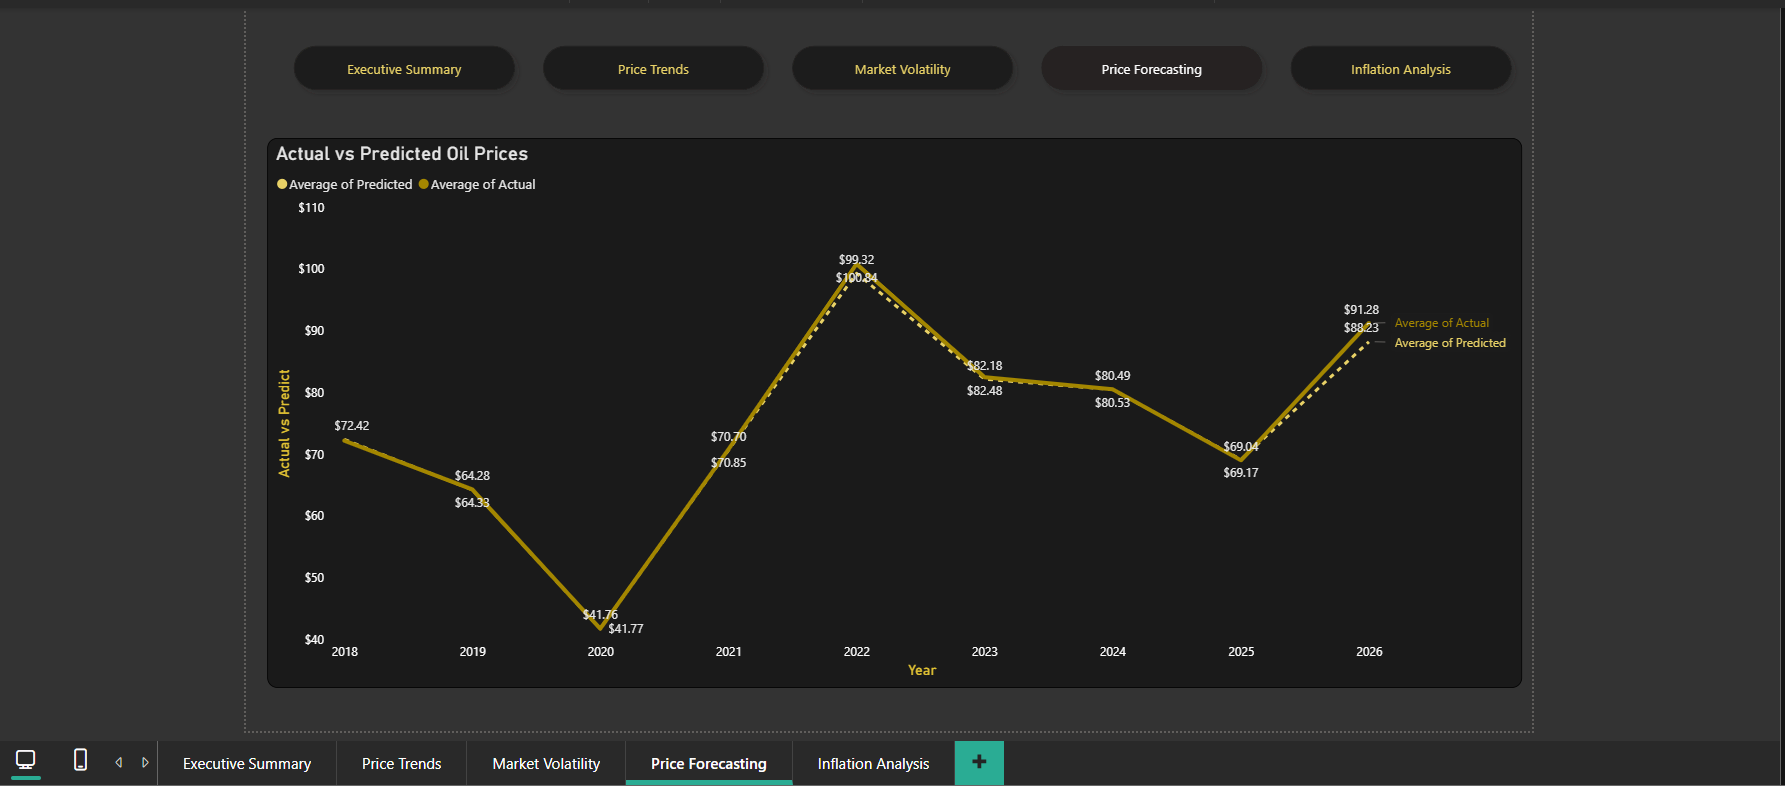

Layout of this report page (visuals, bound fields, positions):
{"tool":"powerbi","page":{"name":"Price Forecasting","canvas":[1280,720],"ordinal":3},"visuals":[{"type":"lineChart","title":"Actual vs Predicted Oil Prices","fields":{"Category":["Forecast_Results.Date.Variation.Date Hierarchy.Year","Forecast_Results.Date.Variation.Date Hierarchy.Quarter","Forecast_Results.Date.Variation.Date Hierarchy.Month","Forecast_Results.Date.Variation.Date Hierarchy.Day"],"Y":["Avg(Forecast_Results.Predicted)","Avg(Forecast_Results.Actual)"]},"box":[21.5,129,1249.2,547],"z":0},{"type":"pageNavigator","box":[38.6,28.6,1231.5,62.2],"z":2001}]}

Visuals, with their boxes on the page's 1280x720 design canvas (x1, y1, x2, y2). These are canvas units, not pixel positions in the 1785x786 screenshot, which may show the page scaled, cropped or inside an application window:
"Actual vs Predicted Oil Prices" lineChart: 22 129 1271 676
pageNavigator: 39 29 1270 91
